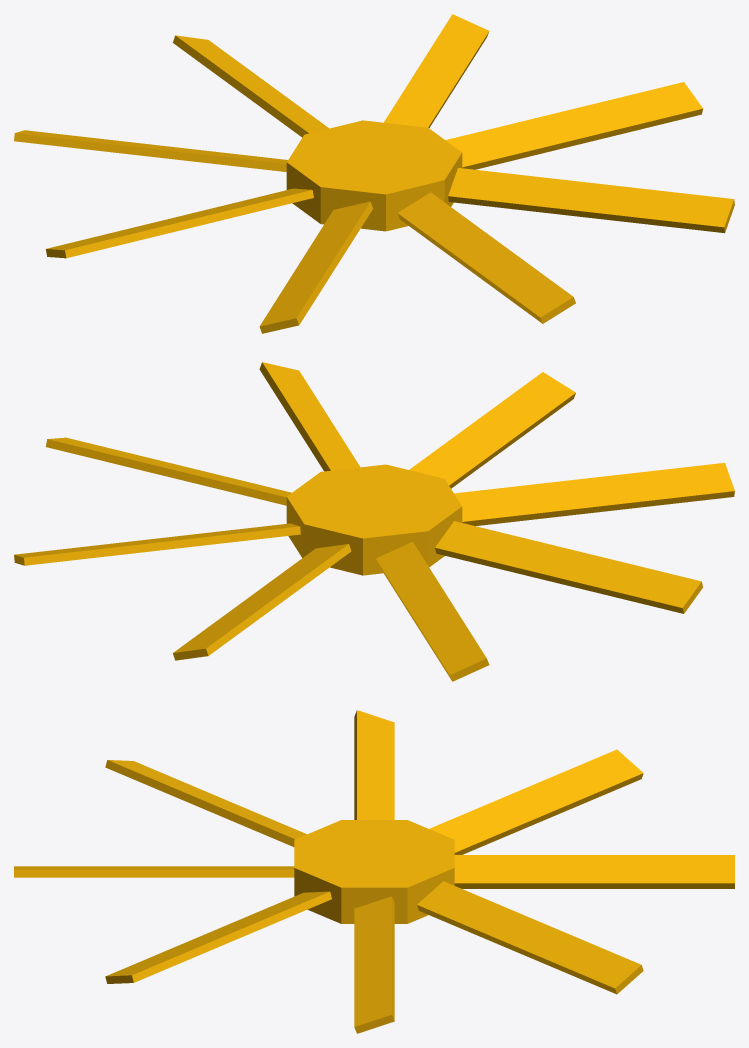
The model's file is fluid_radiator_electric_fan_5x5x1.dae.
3 renders of one model, top to bottom at view 1: azimuth 30°, elevation 25°; view 2: azimuth 150°, elevation 25°; view 3: azimuth 270°, elevation 25°, orthographic.
Visible parts, largest first — view 1: Cube; view 2: Cube; view 3: Cube.
Part boxes in pixels (x1=…): Cube: x1=14, y1=14, x2=734, y2=333; Cube: x1=14, y1=362, x2=734, y2=681; Cube: x1=14, y1=710, x2=734, y2=1033.
Size of the model in its own units: 0.9 by 0.9 by 0.05.
